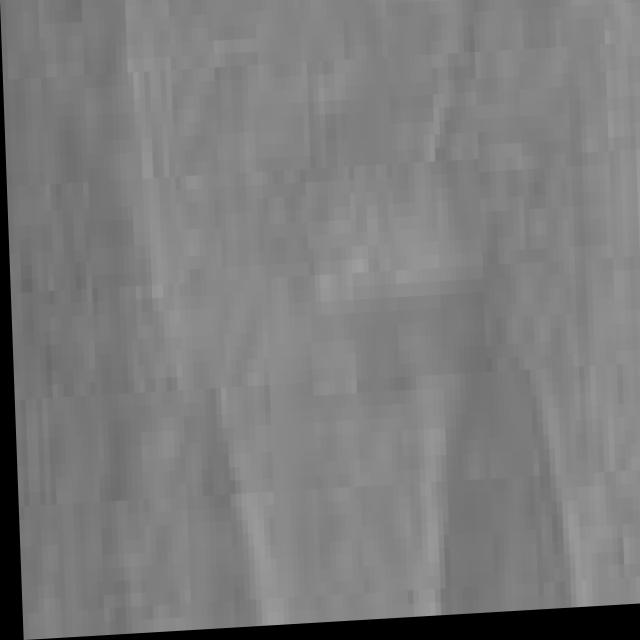fracture: (5, 0, 640, 635)
